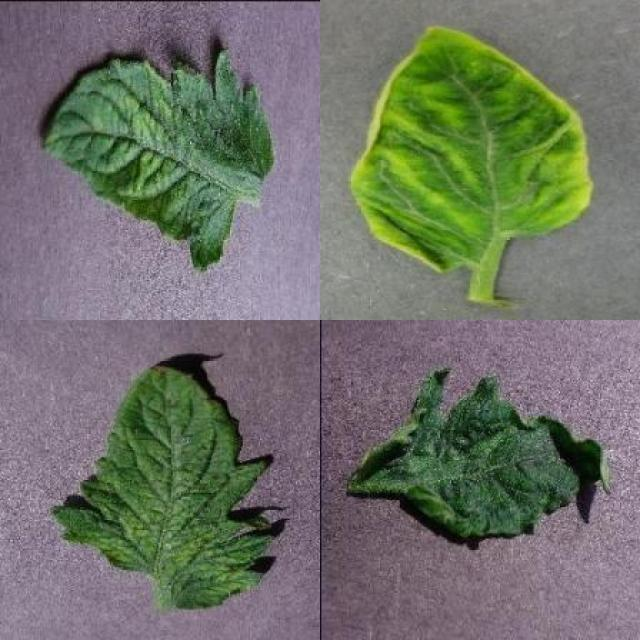Mosaic Virus: (49, 364, 274, 612), (39, 50, 275, 273), (355, 368, 611, 538)
Yellow Leaf Curl Virus: (348, 24, 593, 272)
